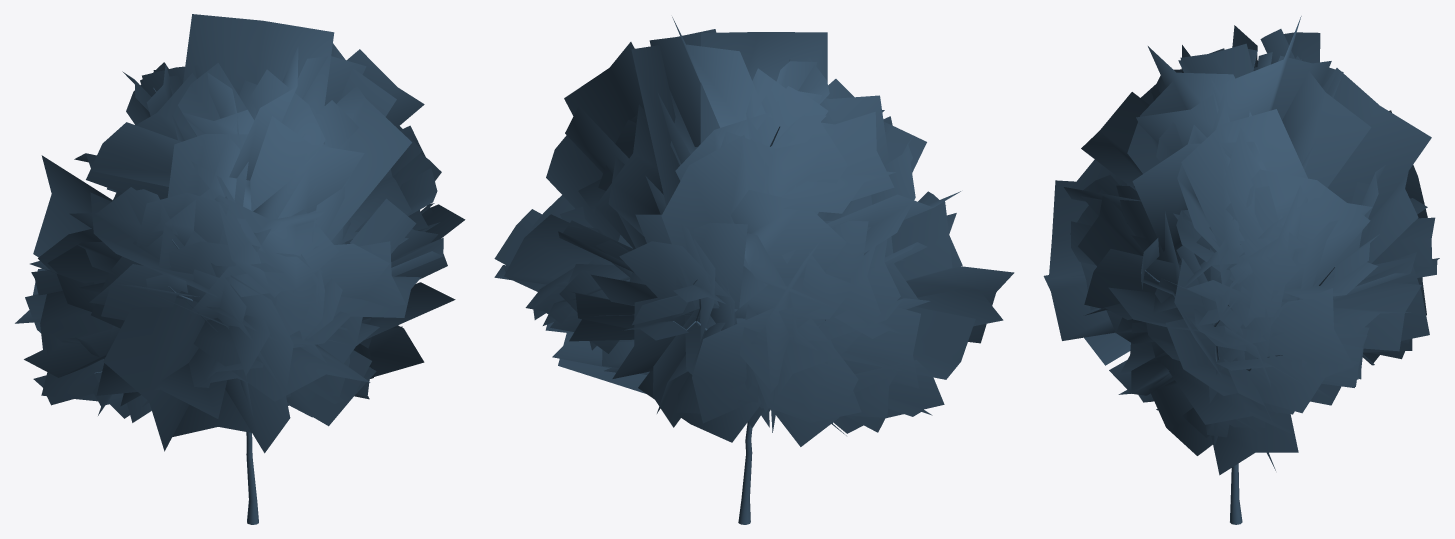
The model's file is cmc_americanmaple_LOD_0.fbx.
3 renders of one model, left to right at view 1: azimuth 30°, elevation 25°; view 2: azimuth 150°, elevation 25°; view 3: azimuth 270°, elevation 25°, orthographic. The views are drawn at different scales.
Parts seen in each view (by area): view 1: american_maple_leaves, american_maple_LOD_0; view 2: american_maple_leaves, american_maple_LOD_0; view 3: american_maple_leaves, american_maple_LOD_0.
Boxes of the visible parts, x1,y1,x2,y2 form: american_maple_leaves: [15, 14, 465, 453]; american_maple_LOD_0: [94, 88, 258, 524]; american_maple_leaves: [494, 17, 1014, 446]; american_maple_LOD_0: [673, 126, 825, 524]; american_maple_leaves: [1043, 16, 1439, 475]; american_maple_LOD_0: [1145, 59, 1334, 524].
Bounding box in the file's own units: 17.29 × 19.09 × 13.9.
